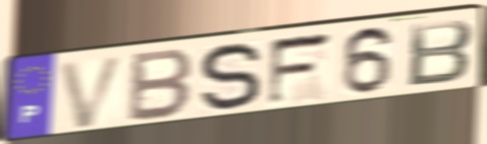6: (341, 23, 402, 100)
B: (125, 46, 196, 125), (405, 17, 476, 90)
F: (264, 29, 336, 109)
S: (197, 40, 265, 115)
V: (55, 52, 129, 132)
